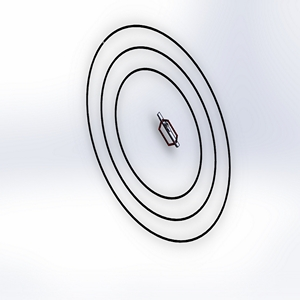circle: (76, 20, 239, 249)
submarine: (144, 106, 187, 157)
